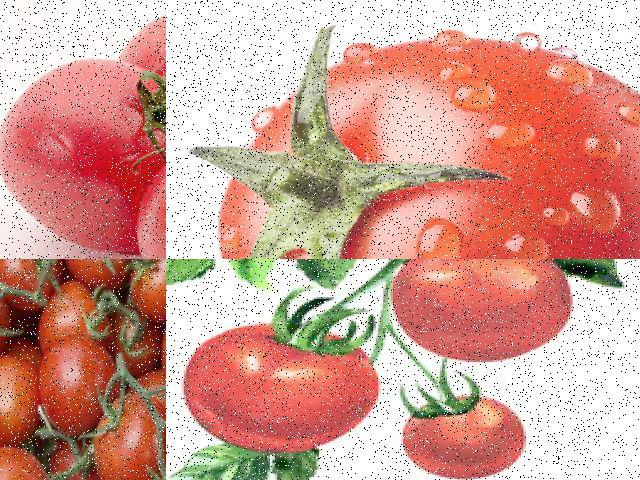tomato: (191, 12, 639, 258), (0, 51, 165, 258), (166, 319, 396, 457), (397, 259, 583, 376), (388, 386, 539, 479), (37, 342, 115, 431), (88, 399, 165, 479), (128, 10, 165, 133), (0, 364, 45, 459), (0, 259, 58, 304), (131, 259, 165, 319), (61, 259, 145, 280)
